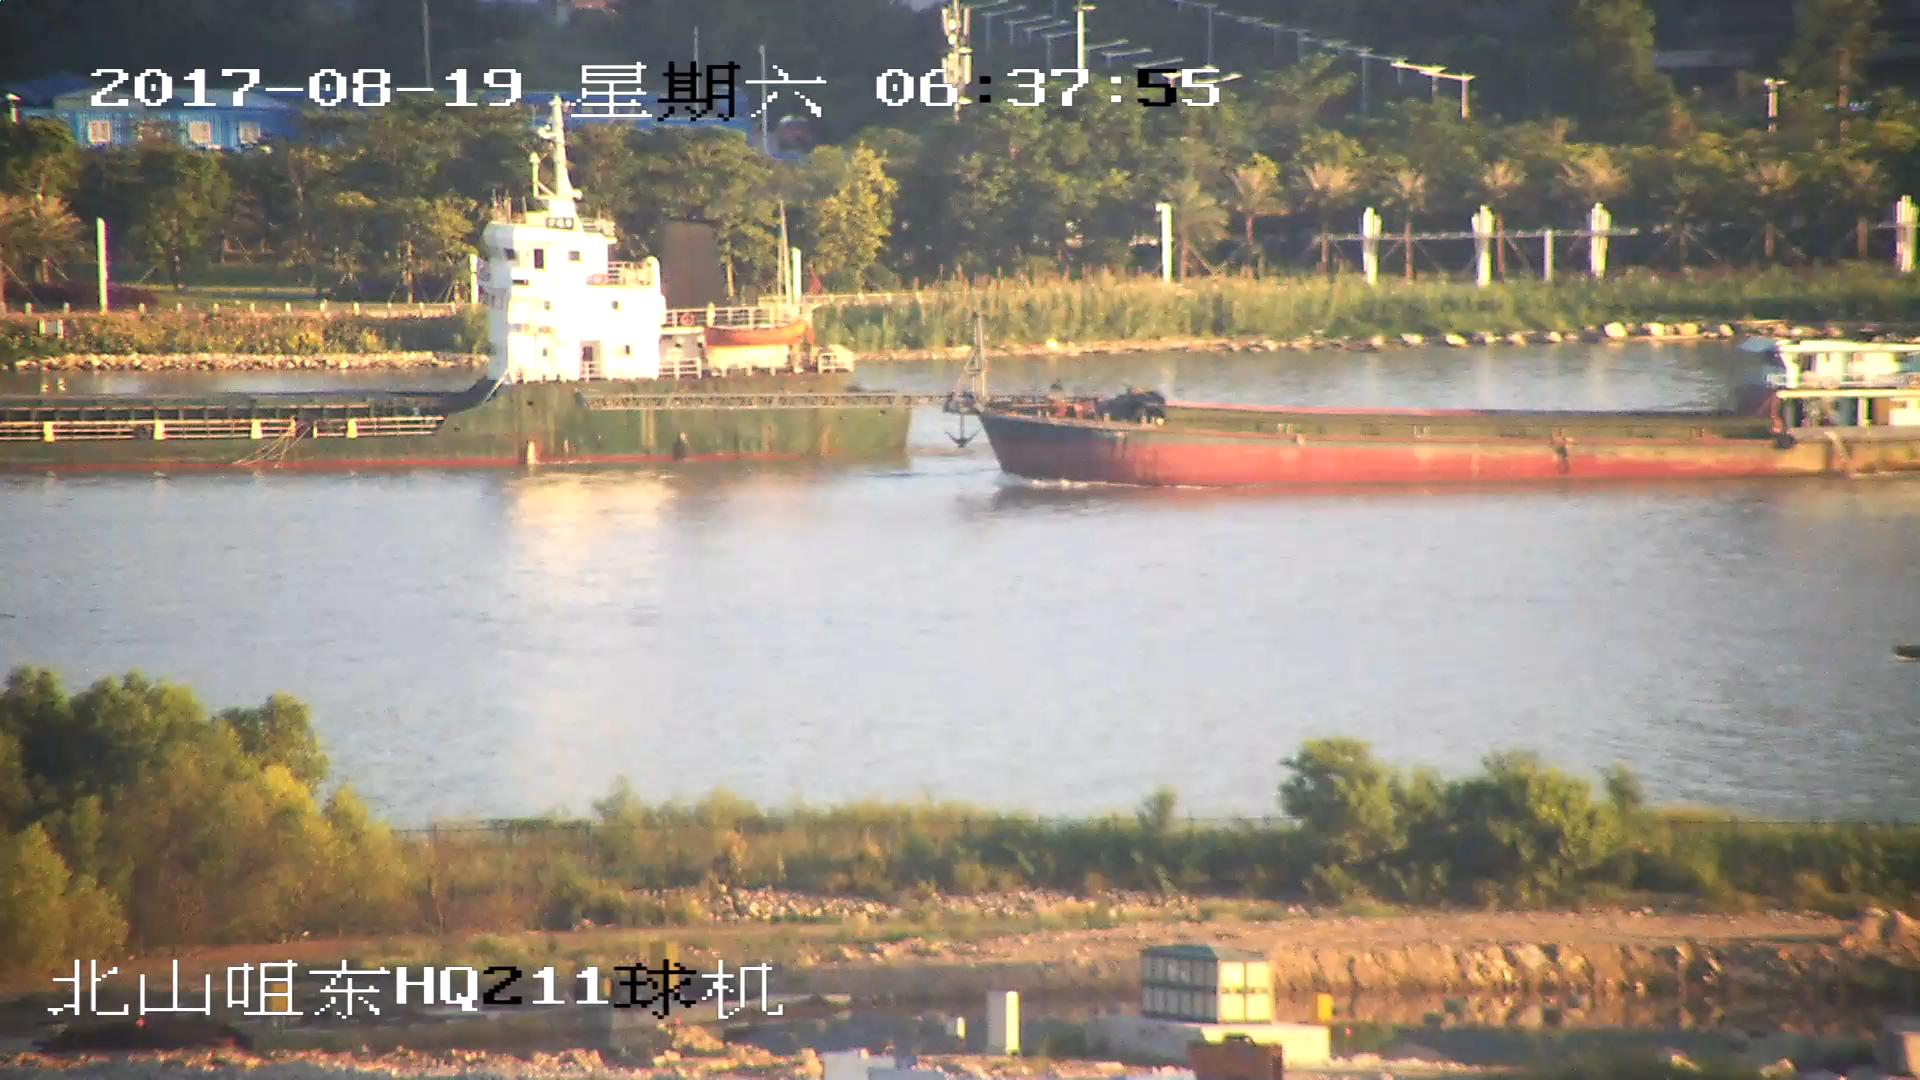bulk cargo carrier: (936, 322, 1920, 493)
general cargo ship: (1, 156, 917, 465)
